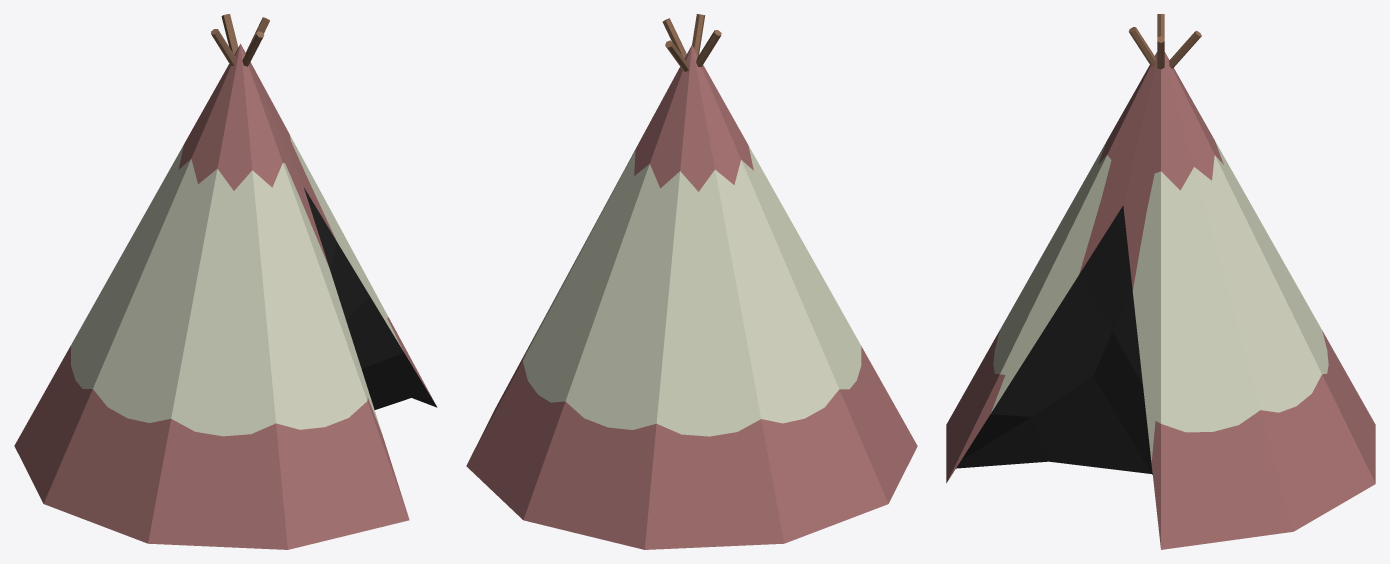
File: western_tent.fbx
3 views of the same model, side by side, from view 1: azimuth 30°, elevation 25°; view 2: azimuth 150°, elevation 25°; view 3: azimuth 270°, elevation 25° (orthographic).
Parts seen in each view (by area): view 1: pCone2; view 2: pCone2; view 3: pCone2.
Part boxes in pixels (x1,y1,x2,y2): pCone2: (14,14,437,549); pCone2: (466,14,917,549); pCone2: (946,14,1375,549).
Bounding box in the file's own units: 5.83 × 6.32 × 5.55.
